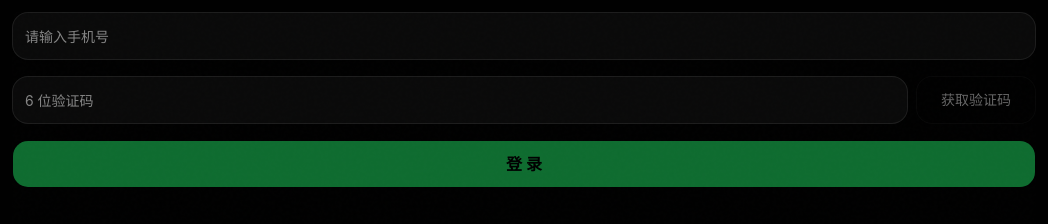
PhoneLoginForm › phone number validation › shows error when phone is not 11 digits after blur
The width and height of the screenshot is (1048, 224).
Step 1. Type "12345" into the field with placeholder "请输入手机号" → x=524, y=36, box [12,12,1036,60]
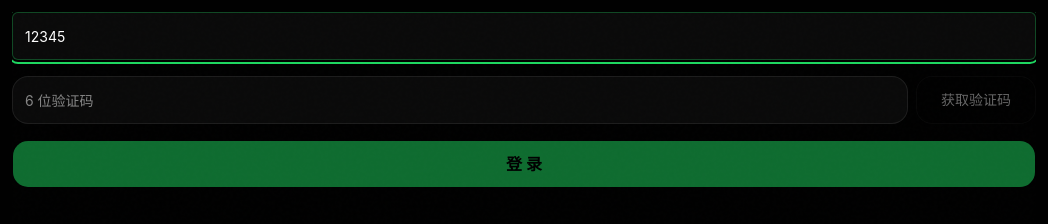
Step 2. Press Tab
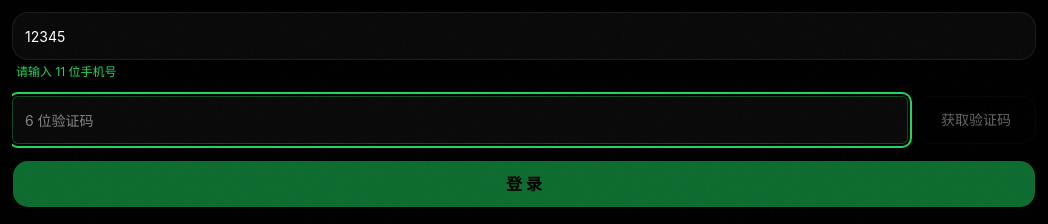
Expected: the text "请输入 11 位手机号" is shown, [16,64,116,79]
